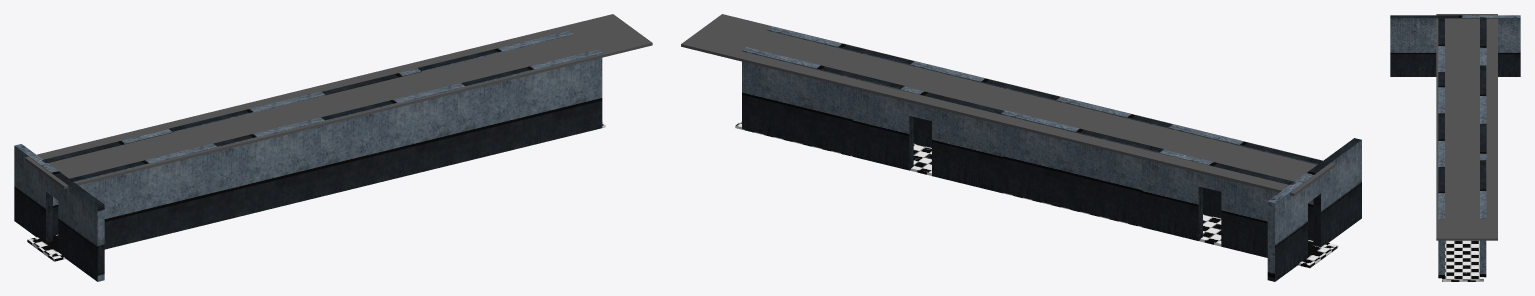
The model's file is Office_Hallway.glb.
3 views of the same model, side by side, from view 1: azimuth 30°, elevation 25°; view 2: azimuth 150°, elevation 25°; view 3: azimuth 270°, elevation 25° (orthographic). The views are drawn at different scales.
Parts seen in each view (by area): view 1: plafond.002, mur1.004, mur1.010, mur1.008, mur1.009, mur3.004, mur1.003, mur1.007, mur3.003, sol.003, mur3.002; view 2: plafond.002, mur1.007, mur3.002, mur1.003, mur3.003, mur3.004, sol.003, mur1.009, mur1.008, mur1.004, mur1.010; view 3: plafond.002, mur3.004, sol.003, mur1.003, mur1.004, mur1.007, mur1.009, mur1.008, mur3.003, mur1.010, mur3.002.
Part boxes in pixels (x1,y1,x2,y2): plafond.002: (25,14,652,188); mur1.004: (458,50,602,163); mur1.010: (181,117,324,230); mur1.008: (321,83,464,196); mur1.009: (69,143,217,249); mur3.004: (14,144,104,281); mur1.003: (417,31,573,71); mur1.007: (169,91,325,132); mur3.003: (42,129,173,235); sol.003: (27,122,605,261); mur3.002: (322,68,421,95); plafond.002: (681,14,1335,196); mur1.007: (1001,110,1163,226); mur3.002: (852,78,1003,193); mur1.003: (742,47,904,155); mur3.003: (1142,148,1295,257); mur3.004: (1267,138,1361,281); sol.003: (735,121,1338,268); mur1.009: (1168,124,1323,240); mur1.008: (910,61,1059,147); mur1.004: (767,26,913,65); mur1.010: (1056,97,1172,128); plafond.002: (1436,14,1497,240); mur3.004: (1390,15,1520,76); sol.003: (1442,240,1483,281); mur1.003: (1480,160,1486,277); mur1.004: (1438,167,1444,278); mur1.007: (1480,65,1486,123); mur1.009: (1438,17,1444,71); mur1.008: (1438,113,1444,166); mur3.003: (1480,17,1486,72); mur1.010: (1438,72,1444,113); mur3.002: (1480,123,1486,178).
Size of the model in its own units: 24.74 by 3.08 by 6.
Materials: 11 (10 with a texture image).
